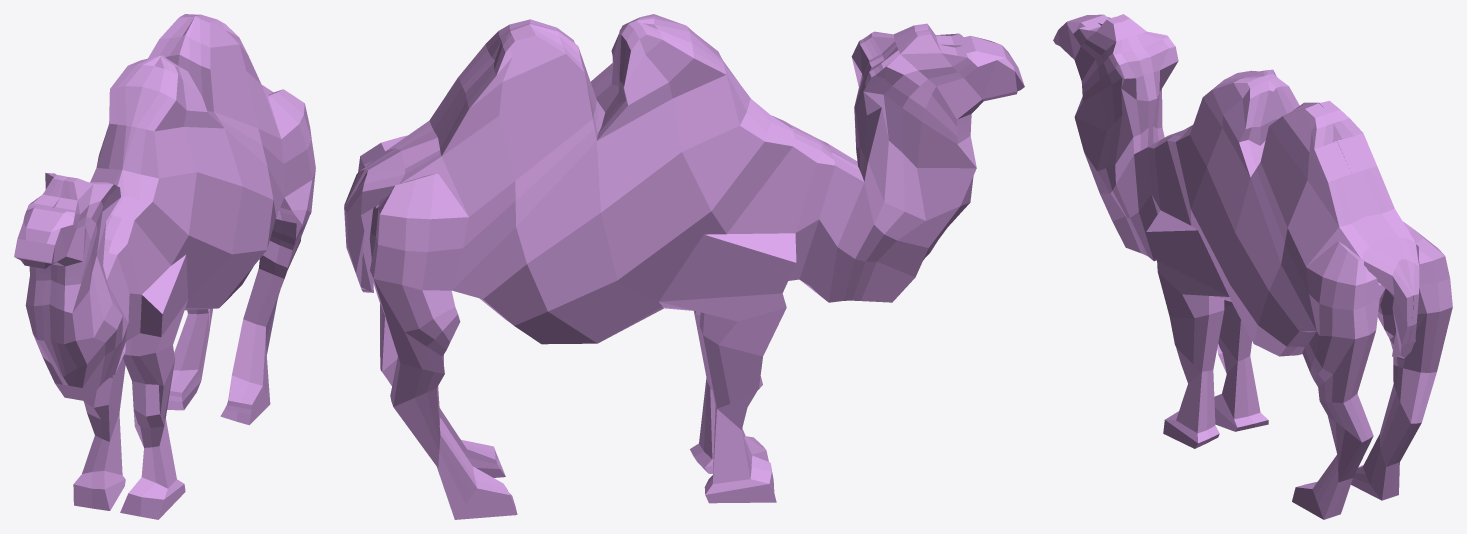
The model's file is pink_camel.glb.
The picture shows the model from 3 angles, left to right: view 1: azimuth 30°, elevation 25°; view 2: azimuth 150°, elevation 25°; view 3: azimuth 270°, elevation 25°; orthographic projection. The views are drawn at different scales.
Size of the model in its own units: 1.91 by 1.7 by 1.6.
